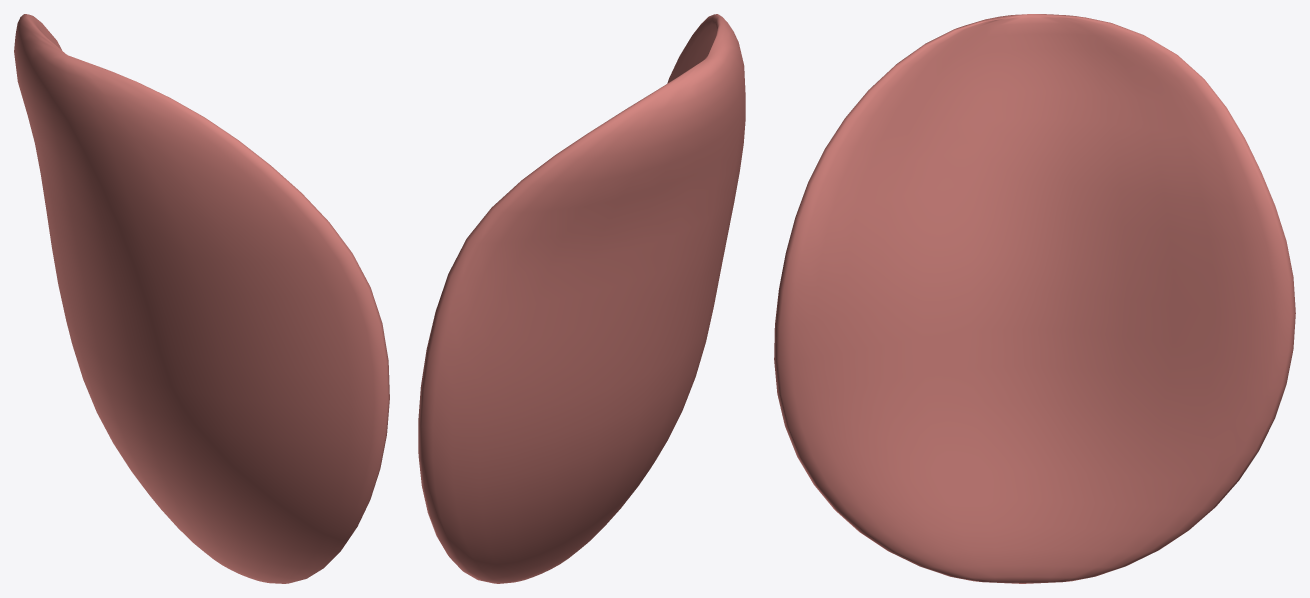
The picture shows the model from 3 angles, left to right: view 1: azimuth 30°, elevation 25°; view 2: azimuth 150°, elevation 25°; view 3: azimuth 270°, elevation 25°; orthographic projection. The views are drawn at different scales.
Visible parts, largest first — view 1: ZA_8f7d4b1f4e2c8929; view 2: ZA_8f7d4b1f4e2c8929; view 3: ZA_8f7d4b1f4e2c8929.
Part boxes in pixels (<box>): ZA_8f7d4b1f4e2c8929: <box>14,14,389,583</box>; ZA_8f7d4b1f4e2c8929: <box>418,14,745,583</box>; ZA_8f7d4b1f4e2c8929: <box>774,14,1295,583</box>.
Size of the model in its own units: 0.0115 by 0.0294 by 0.0279.
